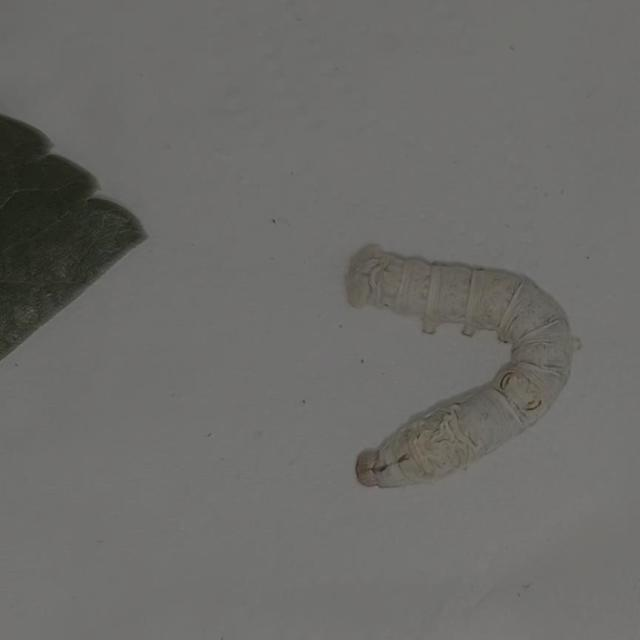Healthy: (323, 199, 589, 510)
